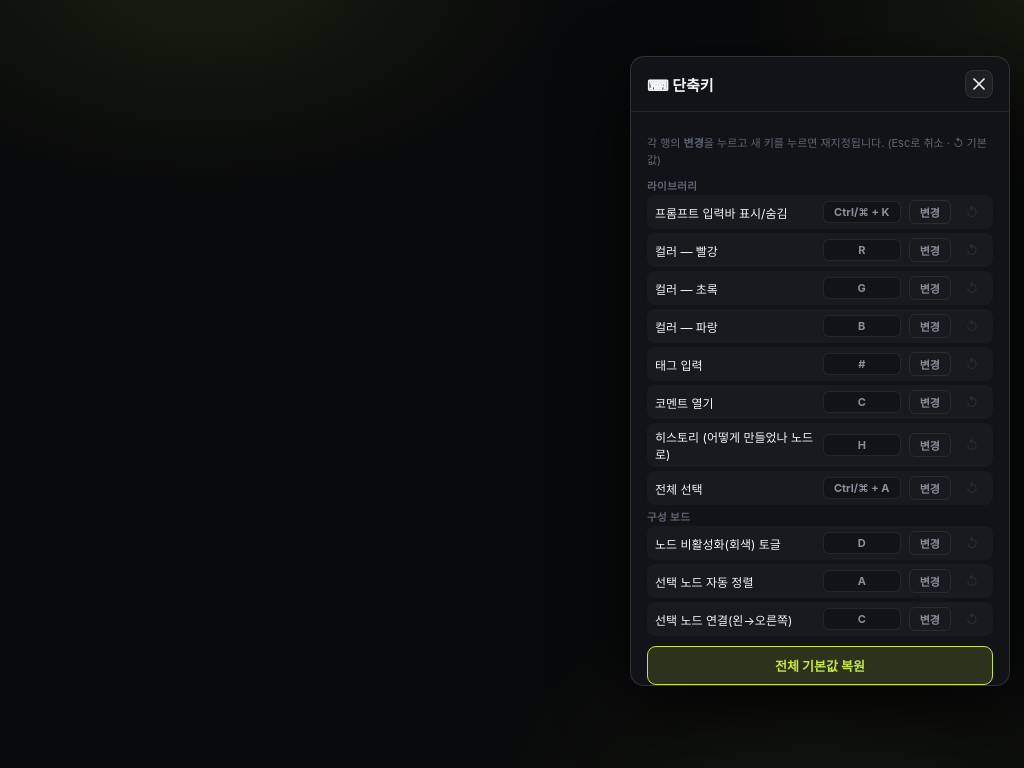
it: + 키를 지정해도 창이 무너지지 않는다 — 전엔 저장된 뒤 렌더가 예외를 던져 창이 통째로 사라졌고 열 때마다 되풀이됐다
Click the button "변경" in the row of "컬러 — 빨강" at (930, 250), box [909,238,951,262]
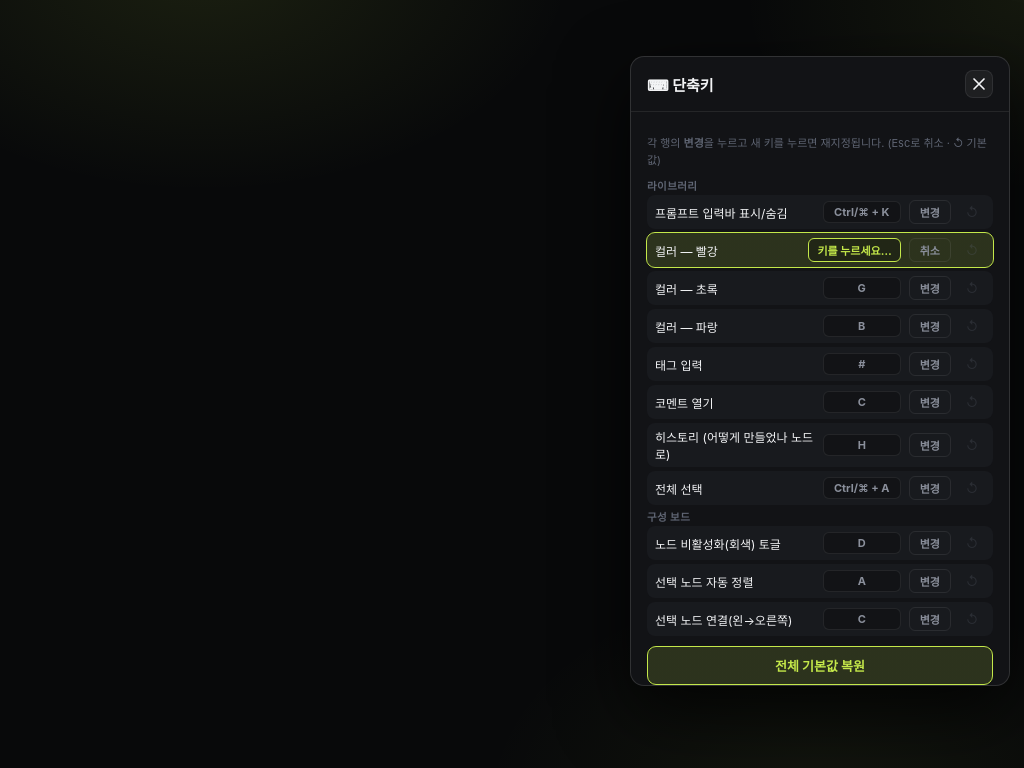
Press +
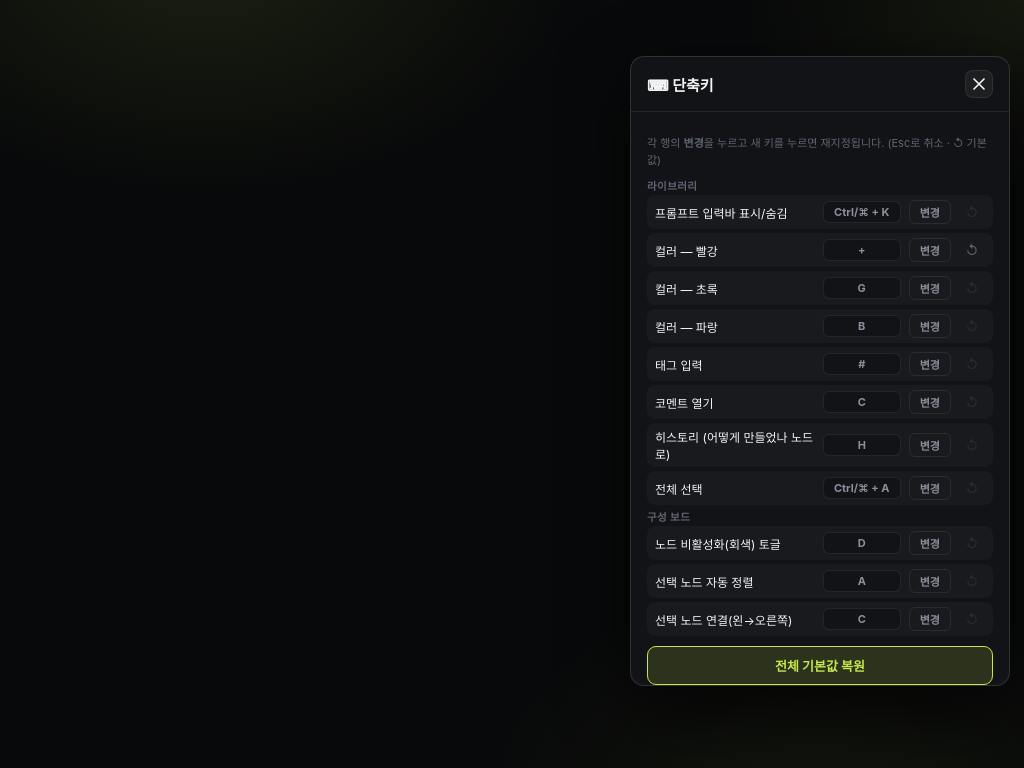
Click the button "변경" in the row of "컬러 — 초록" at (930, 288), box [909,276,951,300]
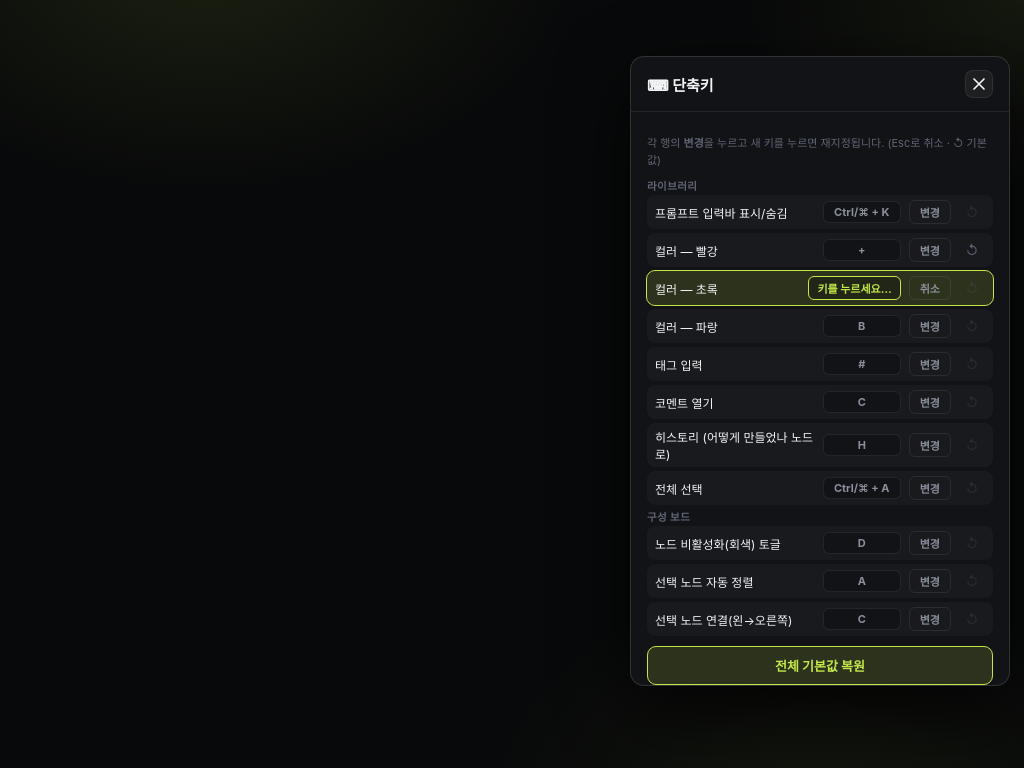
Press +
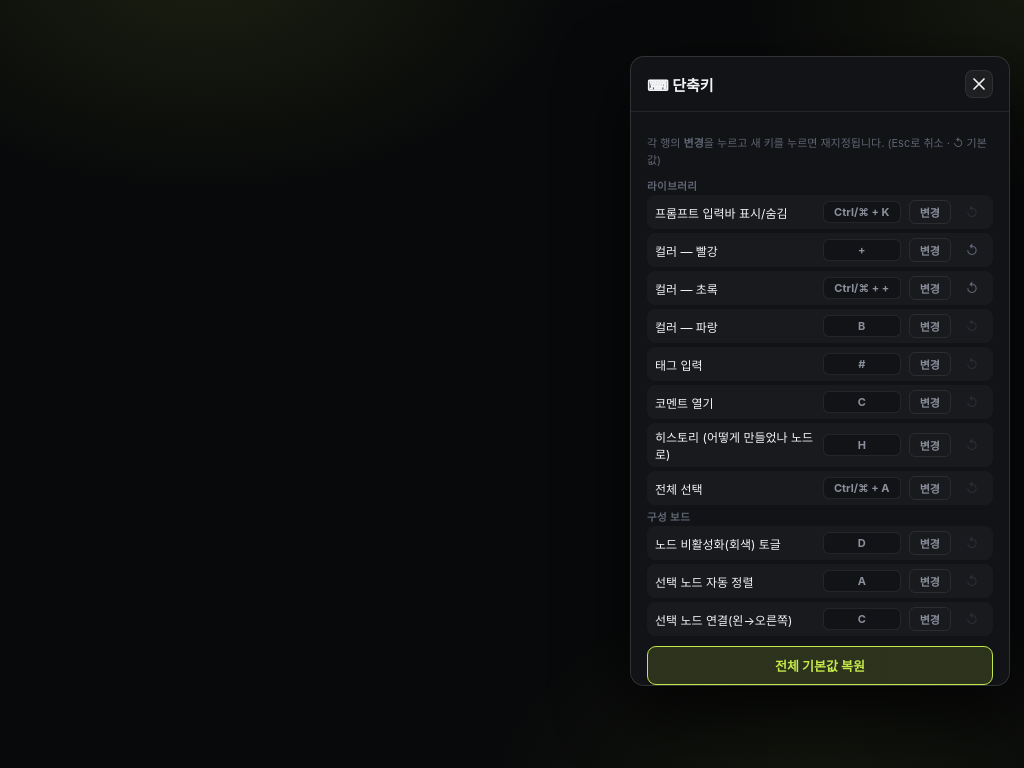
Check: the text "Ctrl/⌘ + +" is shown, box [823,277,901,299]
